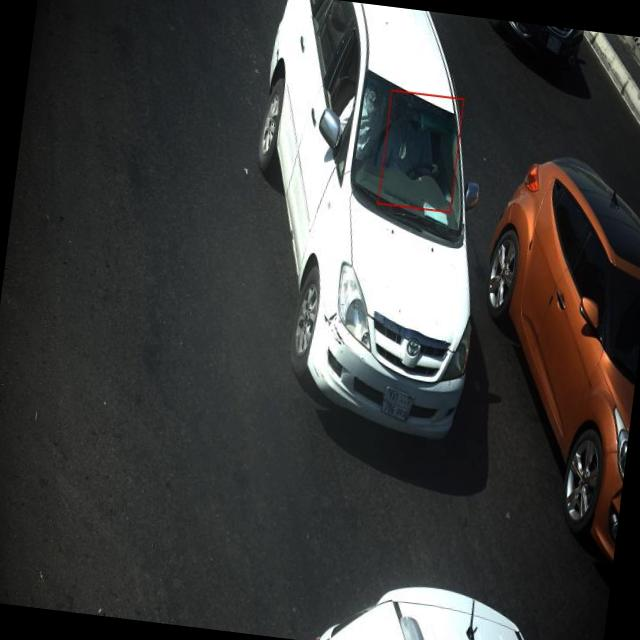person_without_seatbelt: (382, 91, 461, 210)
